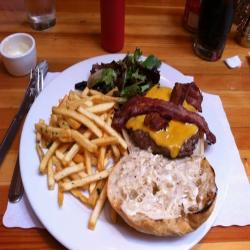burger: (108, 86, 225, 242)
fries: (31, 86, 130, 211)
salad: (84, 51, 161, 94)
